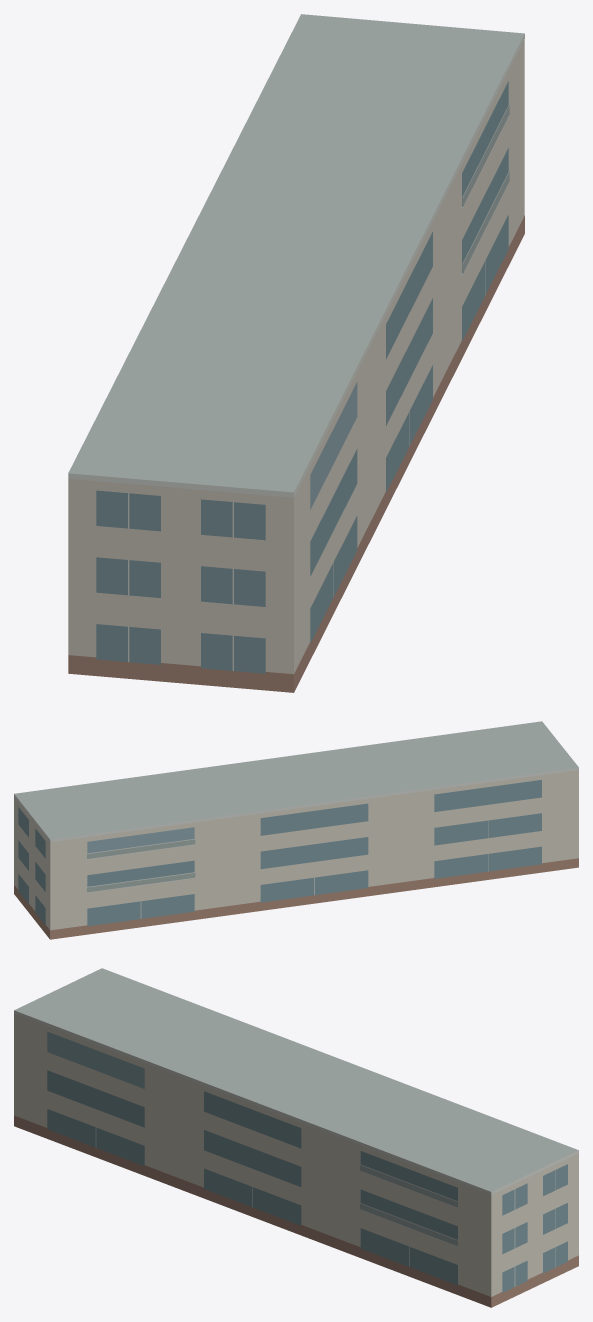
The model's file is survey-upis-32743249.glb.
The picture shows the model from 3 angles, top to bottom: view 1: azimuth 30°, elevation 25°; view 2: azimuth 150°, elevation 25°; view 3: azimuth 270°, elevation 25°; orthographic projection. The views are drawn at different scales.
Visible parts, largest first — view 1: survey-upis-32743249.tmp; view 2: survey-upis-32743249.tmp; view 3: survey-upis-32743249.tmp.
Boxes of the visible parts, x1,y1,x2,y2 form: survey-upis-32743249.tmp: (68,14,524,692); survey-upis-32743249.tmp: (14,721,578,939); survey-upis-32743249.tmp: (14,968,578,1307).
Size of the model in its own units: 37.92 by 9.15 by 40.44.
